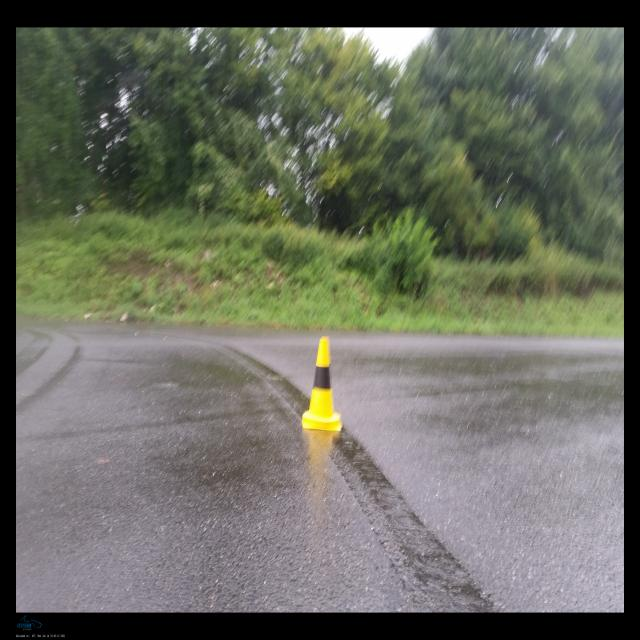yellow_cone: (302, 336, 342, 431)
